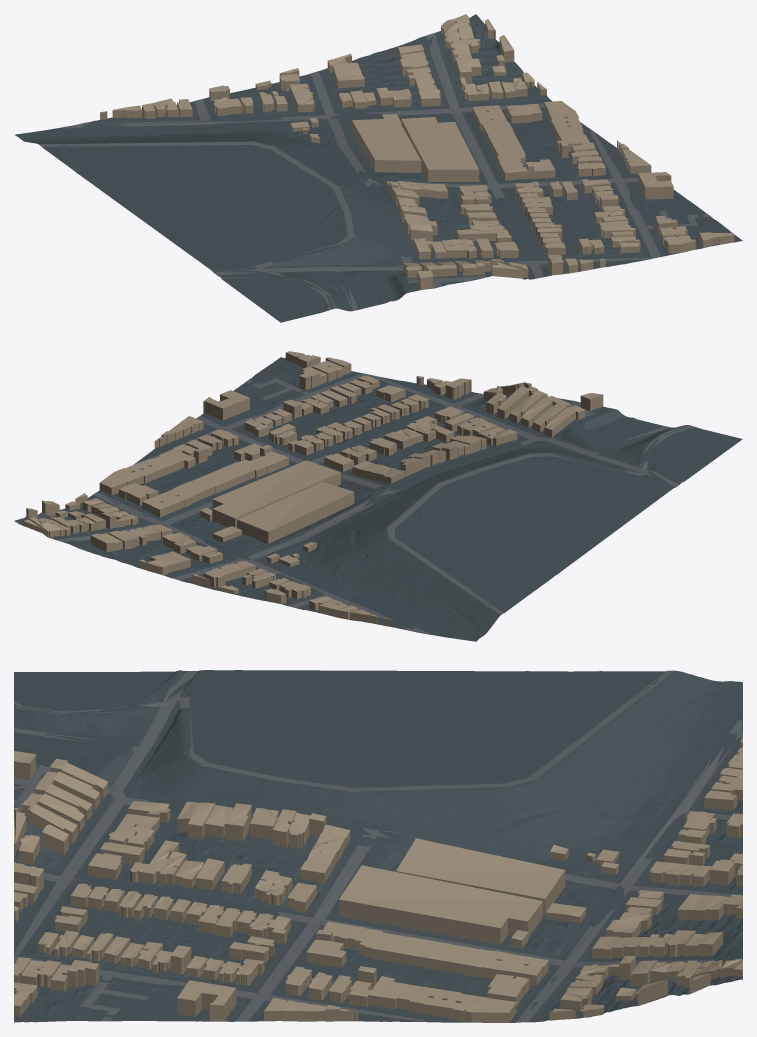
Rendered from epsg26910-1437-10873.lod0.glb.
The picture shows the model from 3 angles, top to bottom: view 1: azimuth 30°, elevation 25°; view 2: azimuth 150°, elevation 25°; view 3: azimuth 270°, elevation 25°; orthographic projection. The views are drawn at different scales.
Visible parts, largest first — view 1: epsg26910-1437-10873-lod0; view 2: epsg26910-1437-10873-lod0; view 3: epsg26910-1437-10873-lod0.
Boxes of the visible parts, x1,y1,x2,y2 form: epsg26910-1437-10873-lod0: (14, 14, 742, 322); epsg26910-1437-10873-lod0: (14, 351, 742, 641); epsg26910-1437-10873-lod0: (14, 670, 742, 1022).
Bounding box in the file's own units: 384 × 33.21 × 384.
